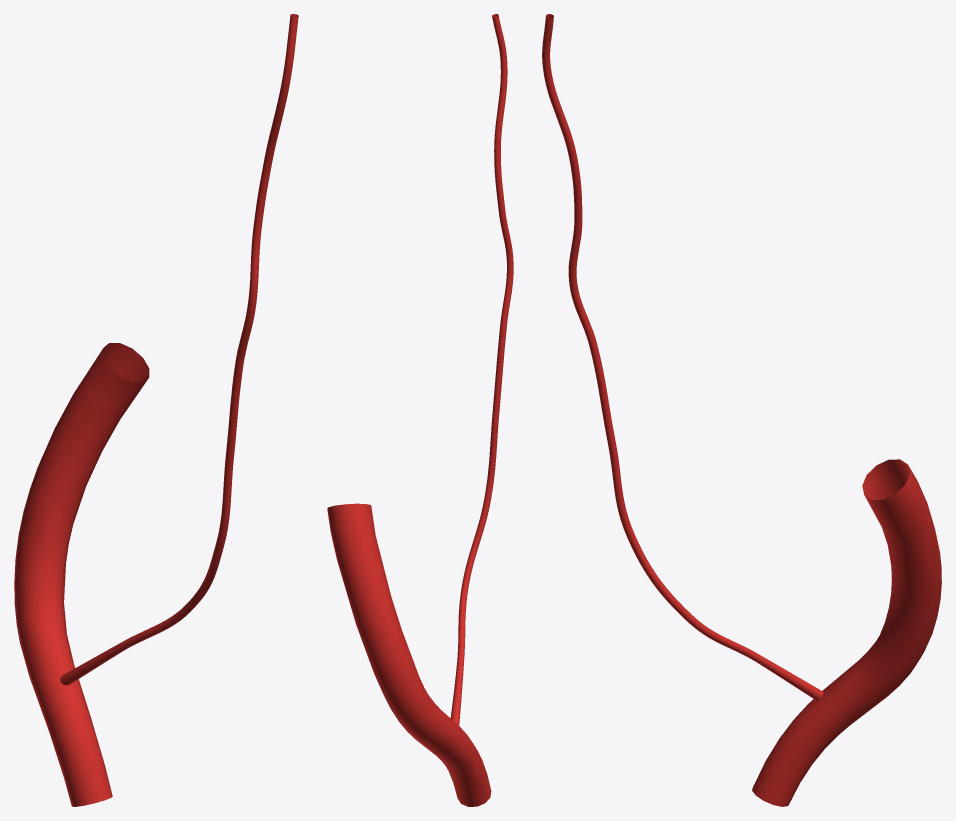
The model's file is circulatorio-external-iliac-vein-r.glb.
3 views of the same model, side by side, from view 1: azimuth 30°, elevation 25°; view 2: azimuth 150°, elevation 25°; view 3: azimuth 270°, elevation 25° (orthographic). The views are drawn at different scales.
Visible parts, largest first — view 1: External iliac vein.r, Inferior epigastric vein.r; view 2: External iliac vein.r, Inferior epigastric vein.r; view 3: External iliac vein.r, Inferior epigastric vein.r.
Part boxes in pixels (x1,y1,x2,y2): External iliac vein.r: [14, 343, 149, 806]; Inferior epigastric vein.r: [60, 14, 298, 685]; External iliac vein.r: [327, 503, 491, 806]; Inferior epigastric vein.r: [450, 14, 513, 725]; External iliac vein.r: [752, 459, 941, 806]; Inferior epigastric vein.r: [542, 14, 823, 700].
Bounding box in the file's own units: 0.0374 × 0.2234 × 0.0975.
